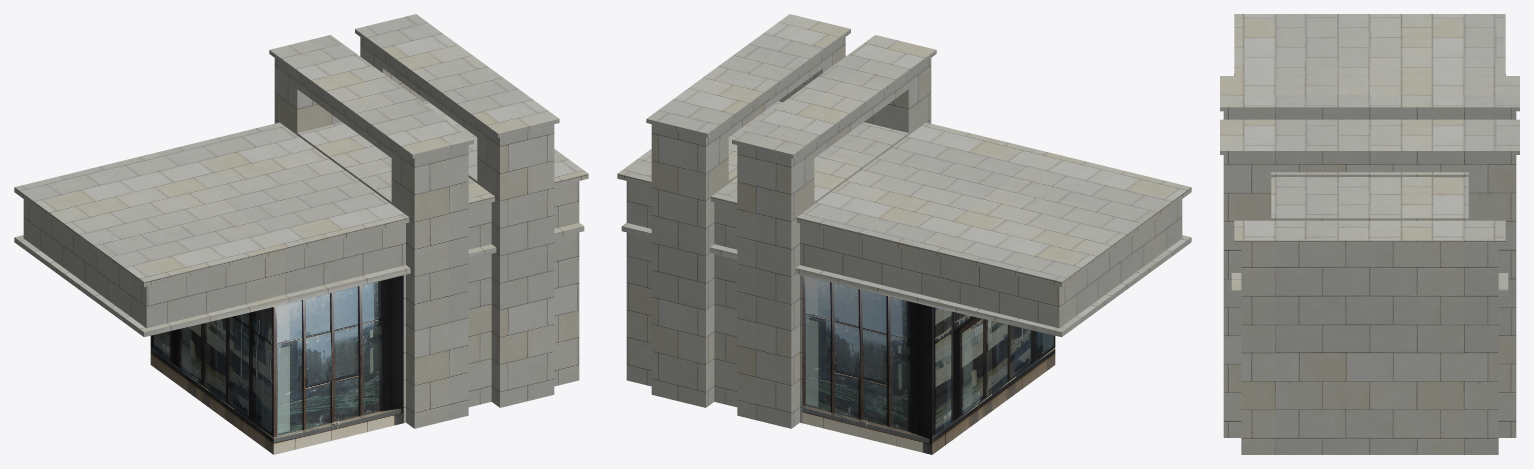
The model's file is MenWei.FBX.
3 renders of one model, left to right at view 1: azimuth 30°, elevation 25°; view 2: azimuth 150°, elevation 25°; view 3: azimuth 270°, elevation 25°, orthographic. The views are drawn at different scales.
Visible parts, largest first — view 1: MenWEi; view 2: MenWEi; view 3: MenWEi.
Part boxes in pixels (x1=…): MenWEi: x1=14, y1=14, x2=588, y2=454; MenWEi: x1=617, y1=14, x2=1191, y2=454; MenWEi: x1=1220, y1=14, x2=1519, y2=454.
Size of the model in its own units: 853 by 507 by 476.
